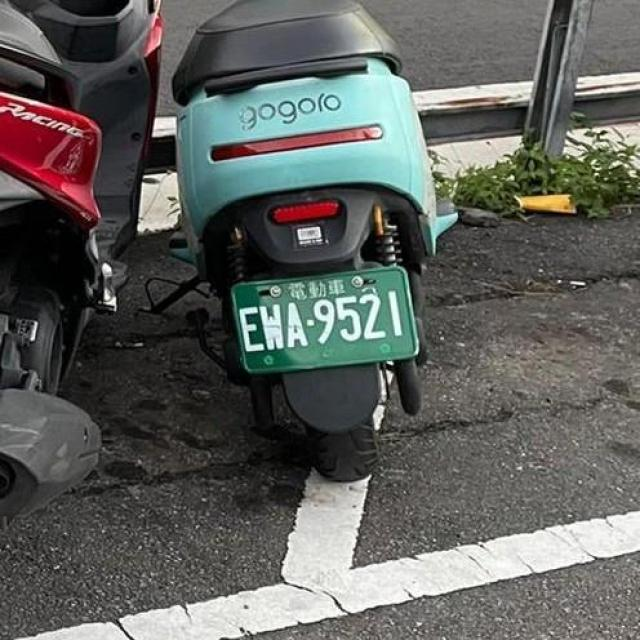GW: (224, 250, 435, 386)
